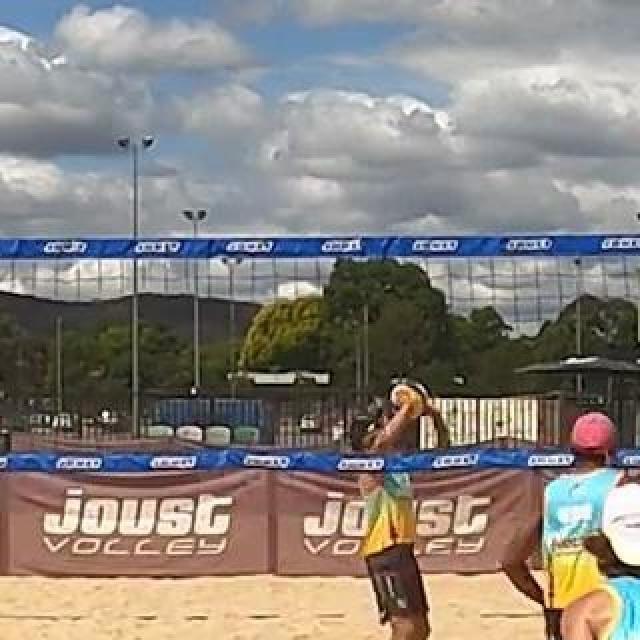volleyball: (391, 380, 427, 416)
